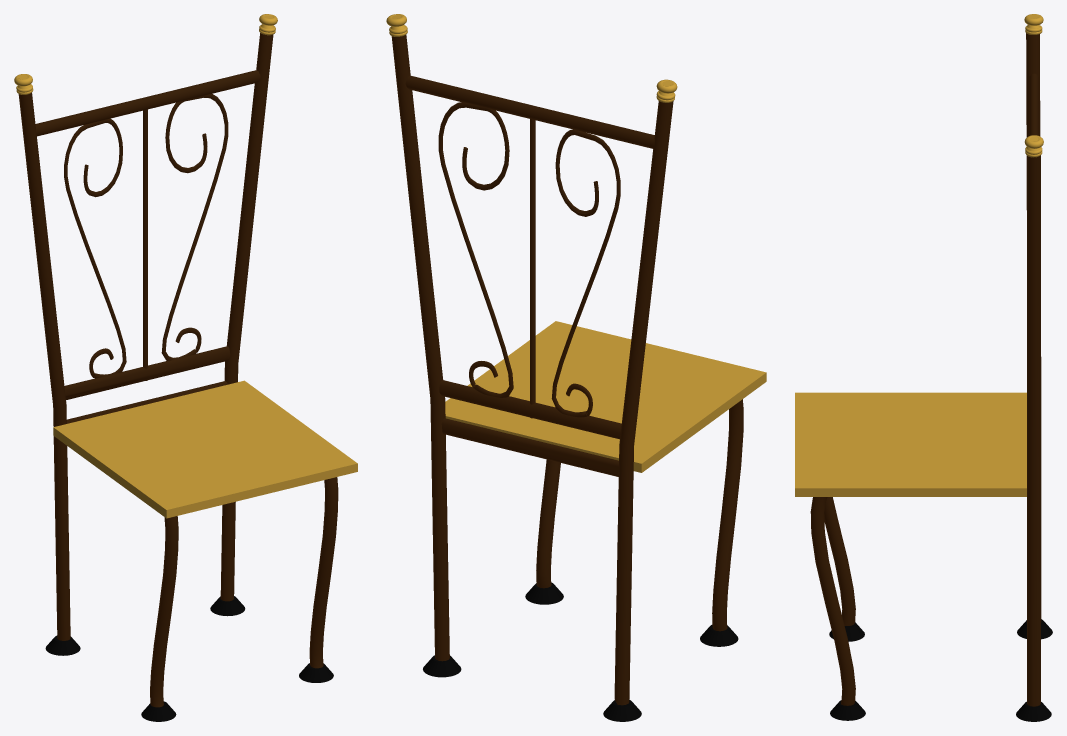
3 views of the same model, side by side, from view 1: azimuth 30°, elevation 25°; view 2: azimuth 150°, elevation 25°; view 3: azimuth 270°, elevation 25° (orthographic). The views are drawn at different scales.
Parts seen in each view (by area): view 1: Box001, Line011, Line010, Line003, Line004, Line009, Line008, Line007, Line006, Line005; view 2: Box001, Line010, Line011, Line003, Line004, Line009, Line007, Line006, Line008, Line005, Cone003; view 3: Box001, Line010, Line008, Line009, Line011, Line004, Cone004, Cone005.
Boxes of the visible parts, x1,y1,x2,y2 form: Box001: (53, 380, 357, 518); Line011: (18, 93, 70, 640); Line010: (220, 33, 273, 601); Line003: (64, 346, 230, 423); Line004: (35, 70, 260, 136); Line009: (150, 516, 178, 707); Line008: (309, 477, 338, 668); Line007: (161, 94, 228, 360); Line006: (64, 118, 126, 378); Line005: (143, 109, 147, 380); Box001: (445, 321, 766, 472); Line010: (391, 35, 449, 661); Line011: (614, 101, 673, 705); Line003: (439, 380, 621, 476); Line004: (405, 75, 654, 148); Line009: (712, 399, 743, 631); Line007: (438, 102, 513, 397); Line006: (551, 129, 620, 417); Line008: (536, 459, 560, 588); Line005: (530, 119, 535, 418); Cone003: (603, 699, 641, 721); Box001: (795, 392, 1026, 496); Line010: (1027, 155, 1040, 706); Line008: (810, 490, 1027, 705); Line009: (824, 497, 855, 625); Line011: (1026, 33, 1041, 622); Line004: (1029, 73, 1038, 135); Cone004: (1016, 701, 1051, 721); Cone005: (830, 700, 865, 720).
Bounding box in the file's own units: 94.99 × 202 × 79.22.
